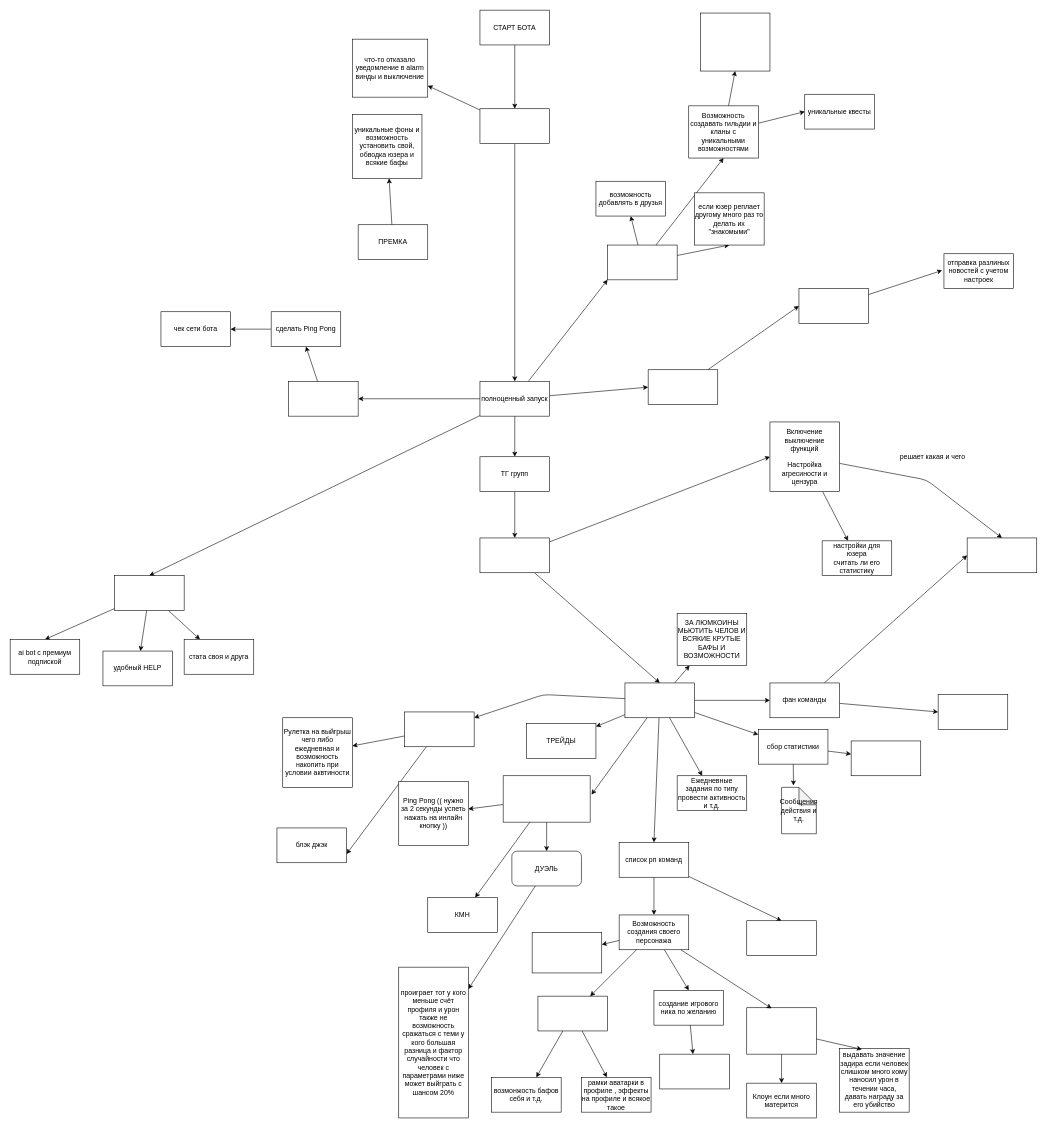
Some shapes in this 1047 by 1128 pixel diagram are drawn without their labels. The shapes that lost their labels are listed below. From the top down, each one's centre as x and y in pixels, then its label:
At (x=735, y=41): "общая казна с люмкоинов и возможность приобритения и ранги".
At (x=514, y=126): "проверка работоспособности компонентов".
At (x=642, y=262): "система друзей".
At (x=833, y=305): "настройки юзера".
At (x=323, y=398): "СПРАВКА ПО ВСЕМУ БОТУ".
At (x=683, y=387): "ТГК".
At (x=514, y=555): "настройки".
At (x=1002, y=555): "рулетка".
At (x=149, y=592): "лс".
At (x=659, y=700): "возможности".
At (x=973, y=711): "цензура сообщений юзеров как в ADC".
At (x=439, y=729): "КАЗИНО МЕХАНИКИ".
At (x=886, y=758): "вывод доступной статы".
At (x=546, y=798): "игры на люм коины и просто".
At (x=567, y=952): "выдавать звания за задания которые не известны или известны".
At (x=781, y=938): "возможная их настрйки".
At (x=572, y=1013): "добавление инвентаря".
At (x=781, y=1030): "Добавление состояния юзера , иногда определять заранее".
At (x=694, y=1071): "приобретение имущки".
